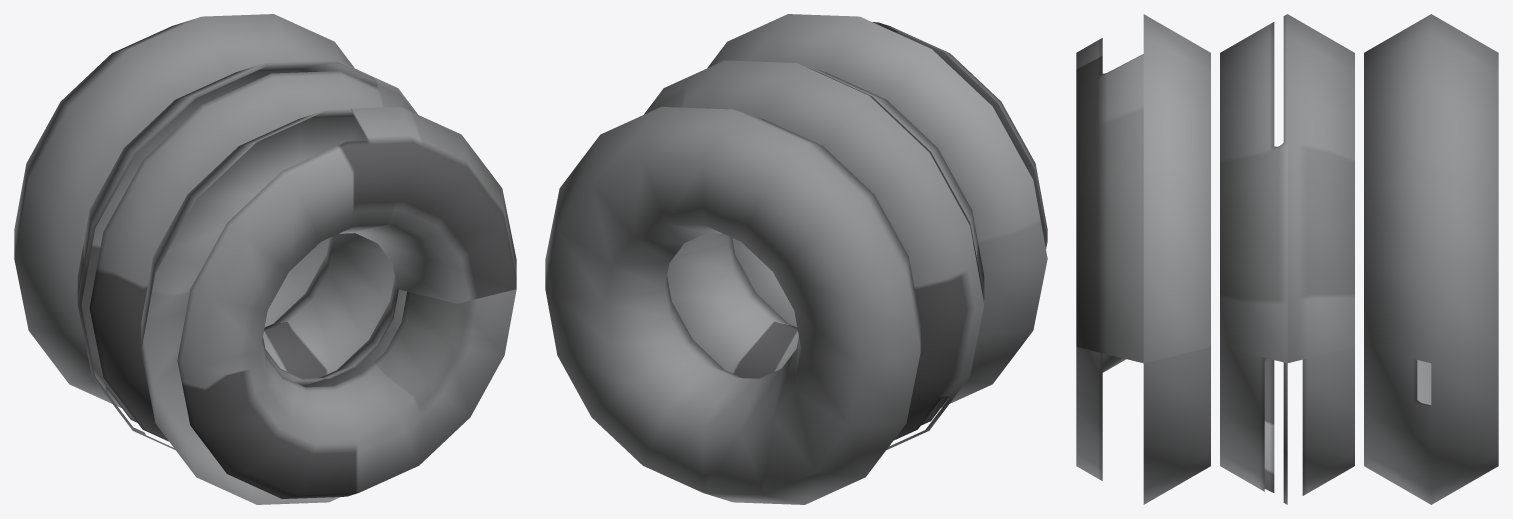
3 renders of one model, left to right at view 1: azimuth 30°, elevation 25°; view 2: azimuth 150°, elevation 25°; view 3: azimuth 270°, elevation 25°, orthographic. The views are drawn at different scales.
Bounding box in the file's own units: 0.9676 × 0.9676 × 0.8321.
